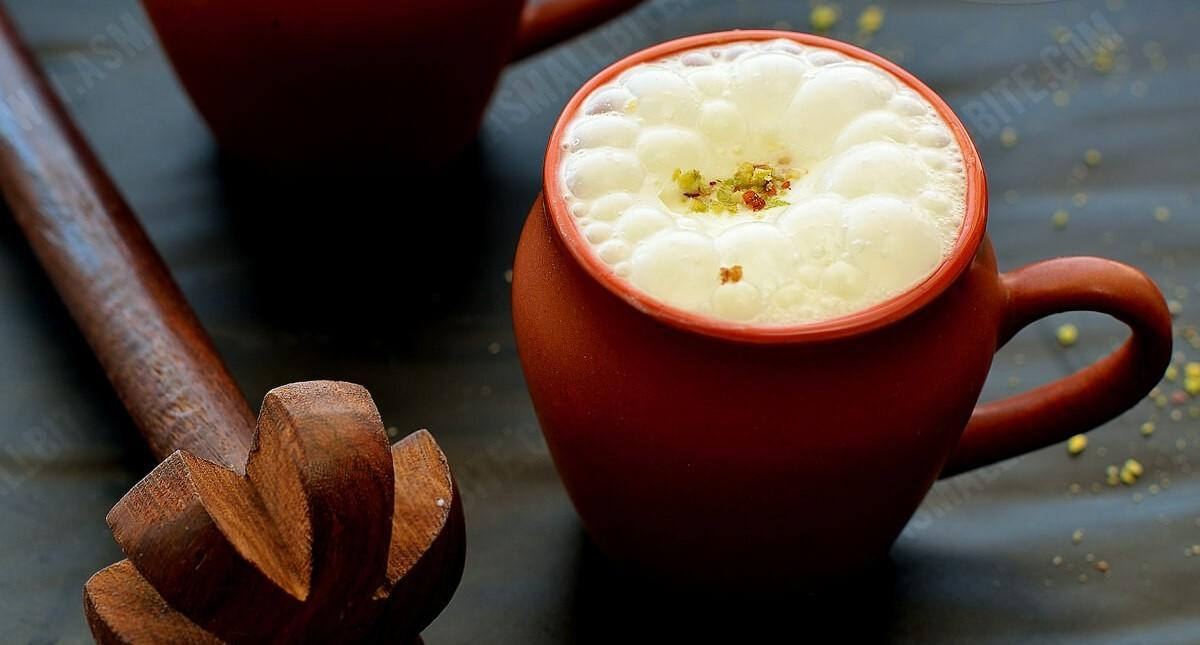Lassi: (558, 39, 966, 326)
